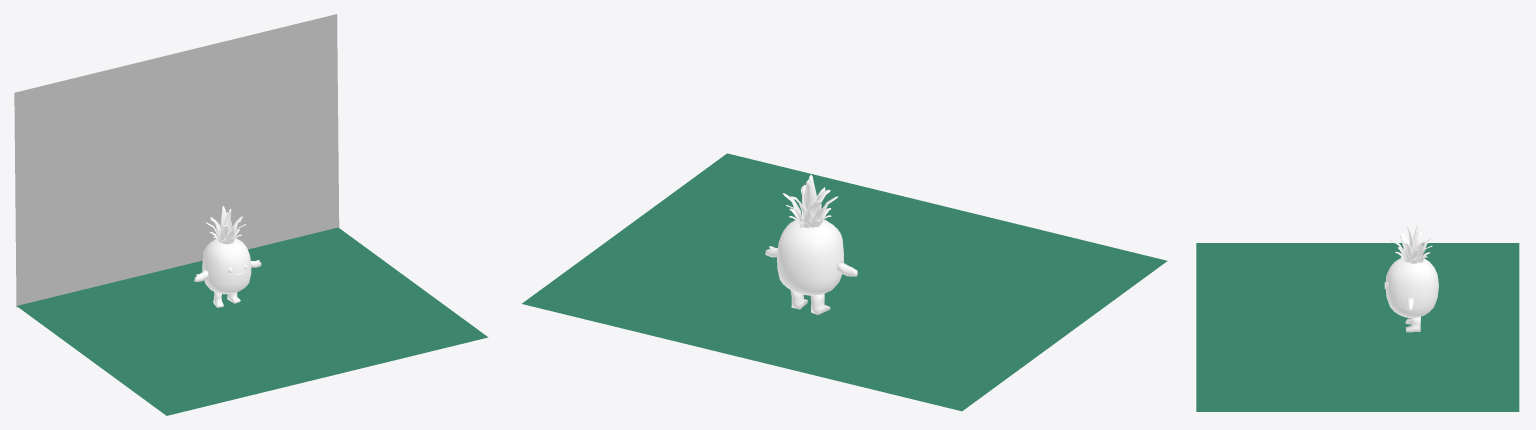
The model's file is PineappleLowPoly.glb.
3 renders of one model, left to right at view 1: azimuth 30°, elevation 25°; view 2: azimuth 150°, elevation 25°; view 3: azimuth 270°, elevation 25°, orthographic. The views are drawn at different scales.
Visible parts, largest first — view 1: Plane, Plane.001, MainBody; view 2: Plane.001, MainBody; view 3: Plane.001, MainBody.
Part boxes in pixels (left/top/right/bottom): Plane: left=14, top=14, right=339, bottom=307; Plane.001: left=17, top=227, right=488, bottom=415; MainBody: left=202, top=238, right=251, bottom=294; Plane.001: left=522, top=153, right=1167, bottom=411; MainBody: left=777, top=219, right=843, bottom=295; Plane.001: left=1196, top=243, right=1519, bottom=411; MainBody: left=1385, top=258, right=1438, bottom=318.
Bounding box in the file's own units: 26 × 16.47 × 20.99.
